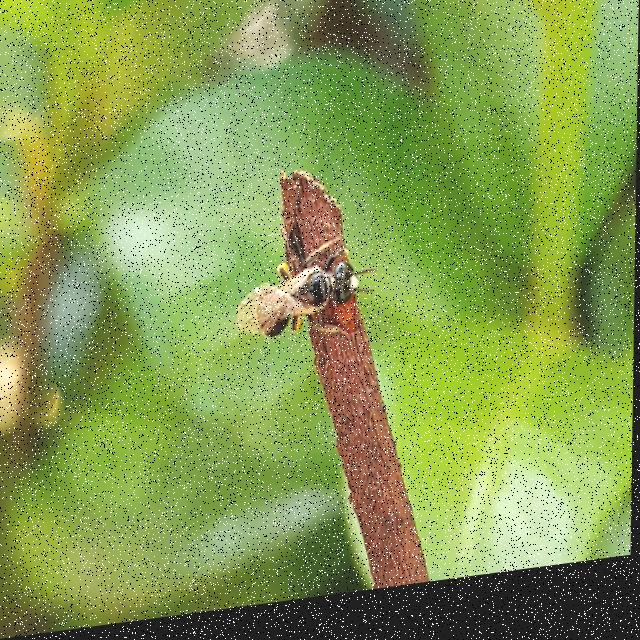Braunsapis: (232, 241, 378, 389)
